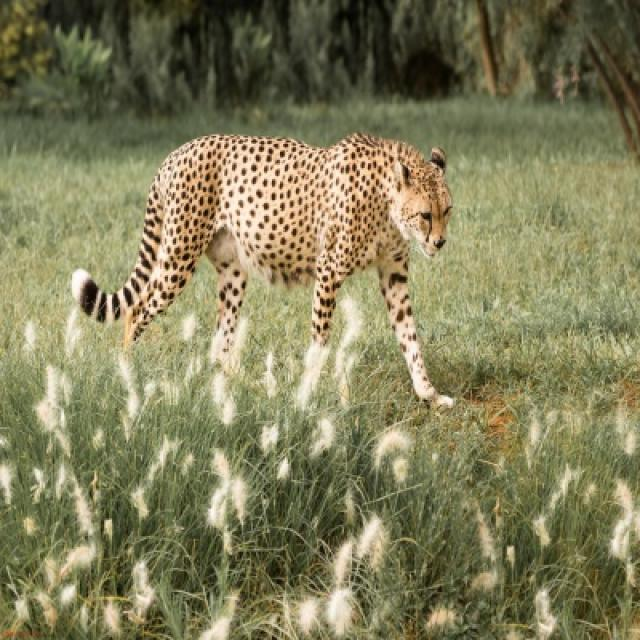Cheetah: (72, 133, 453, 406)
